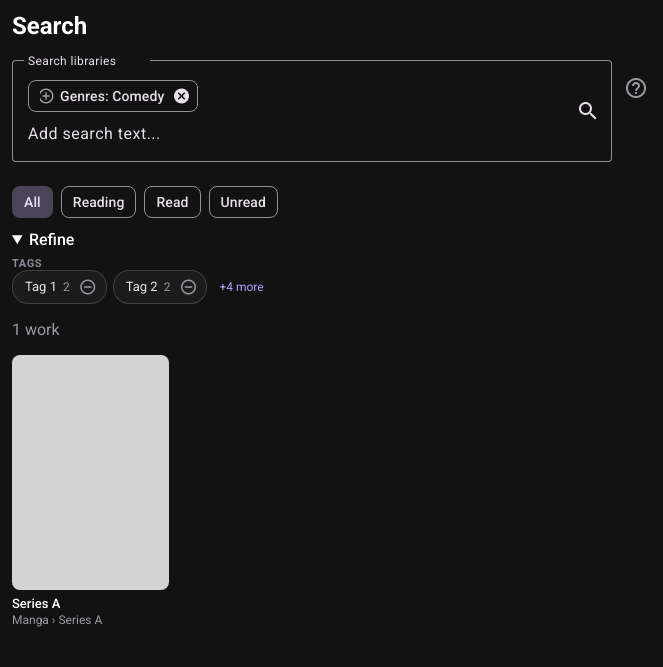
Scenario: SearchComponent tag filters and work cards (1.45.0) › 1.50.0: says so when the rest of a bucket cannot be loaded, and the button tries again
Click the button with test id "refine-more" showing "+4 more" at (242, 287), box [213,271,270,303]
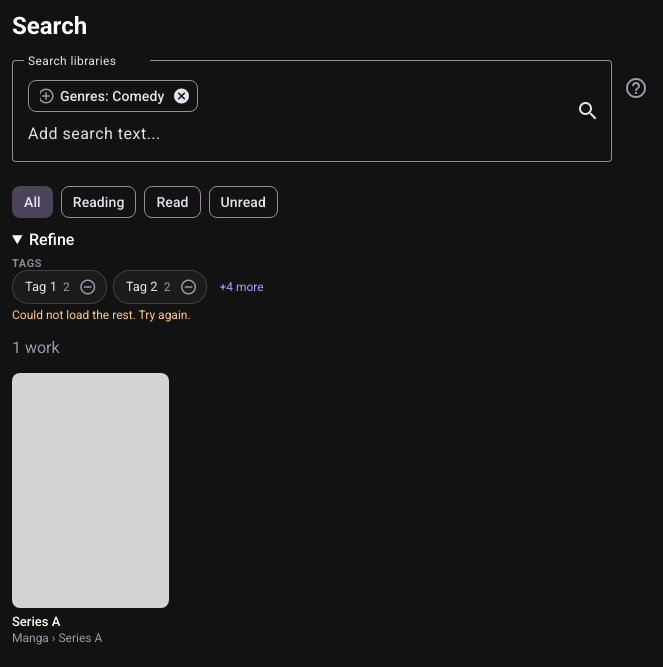
Expected: the message "Could not load the rest. Try again." is shown, [12,308,191,322]
Click the button with test id "refine-more" showing "+4 more" at (242, 287), box [213,271,270,303]
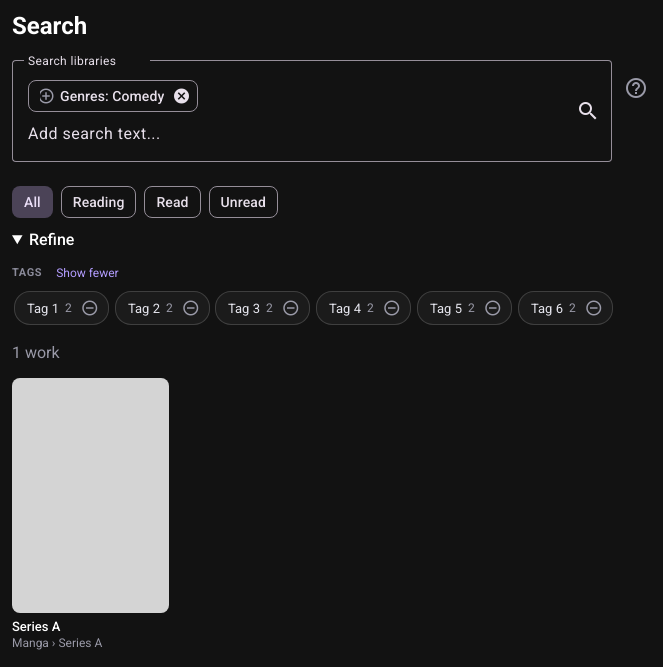
Expected: the message with test id "refine-error" is gone
